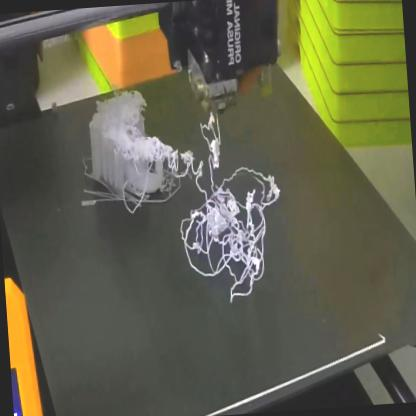fail: (164, 111, 290, 308), (92, 88, 166, 176)
